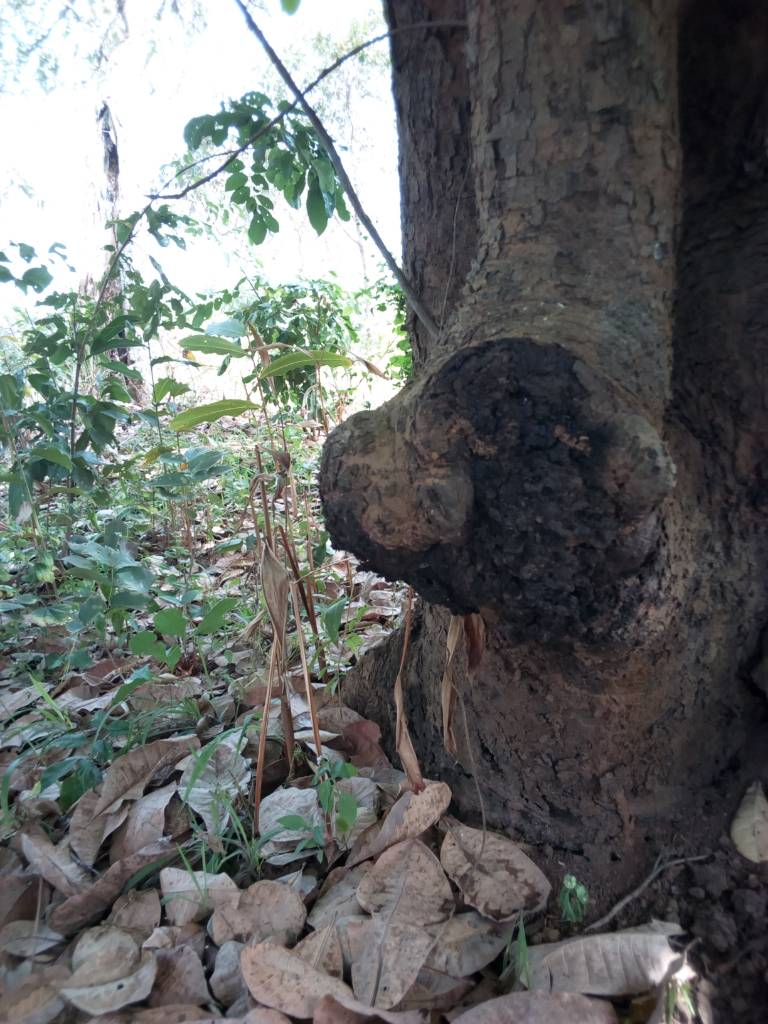Termites: (468, 3, 680, 650), (446, 682, 719, 788)
